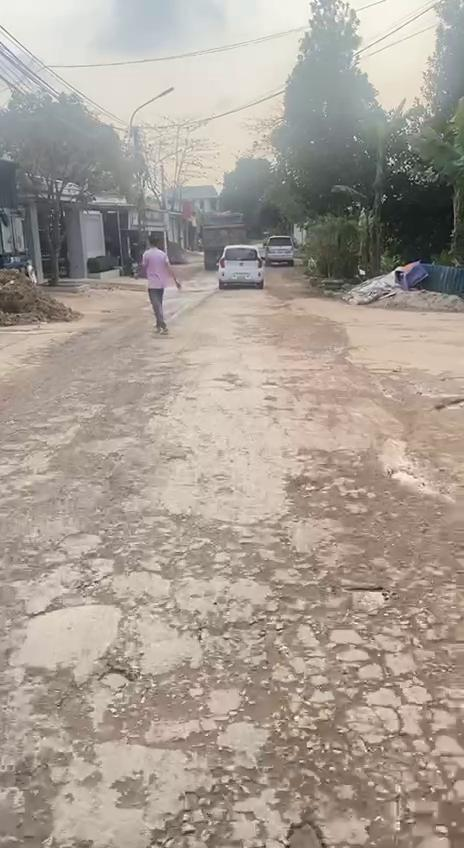pothole: (187, 604, 322, 733), (357, 730, 464, 848), (343, 579, 402, 626), (92, 660, 150, 696), (284, 809, 336, 848)
